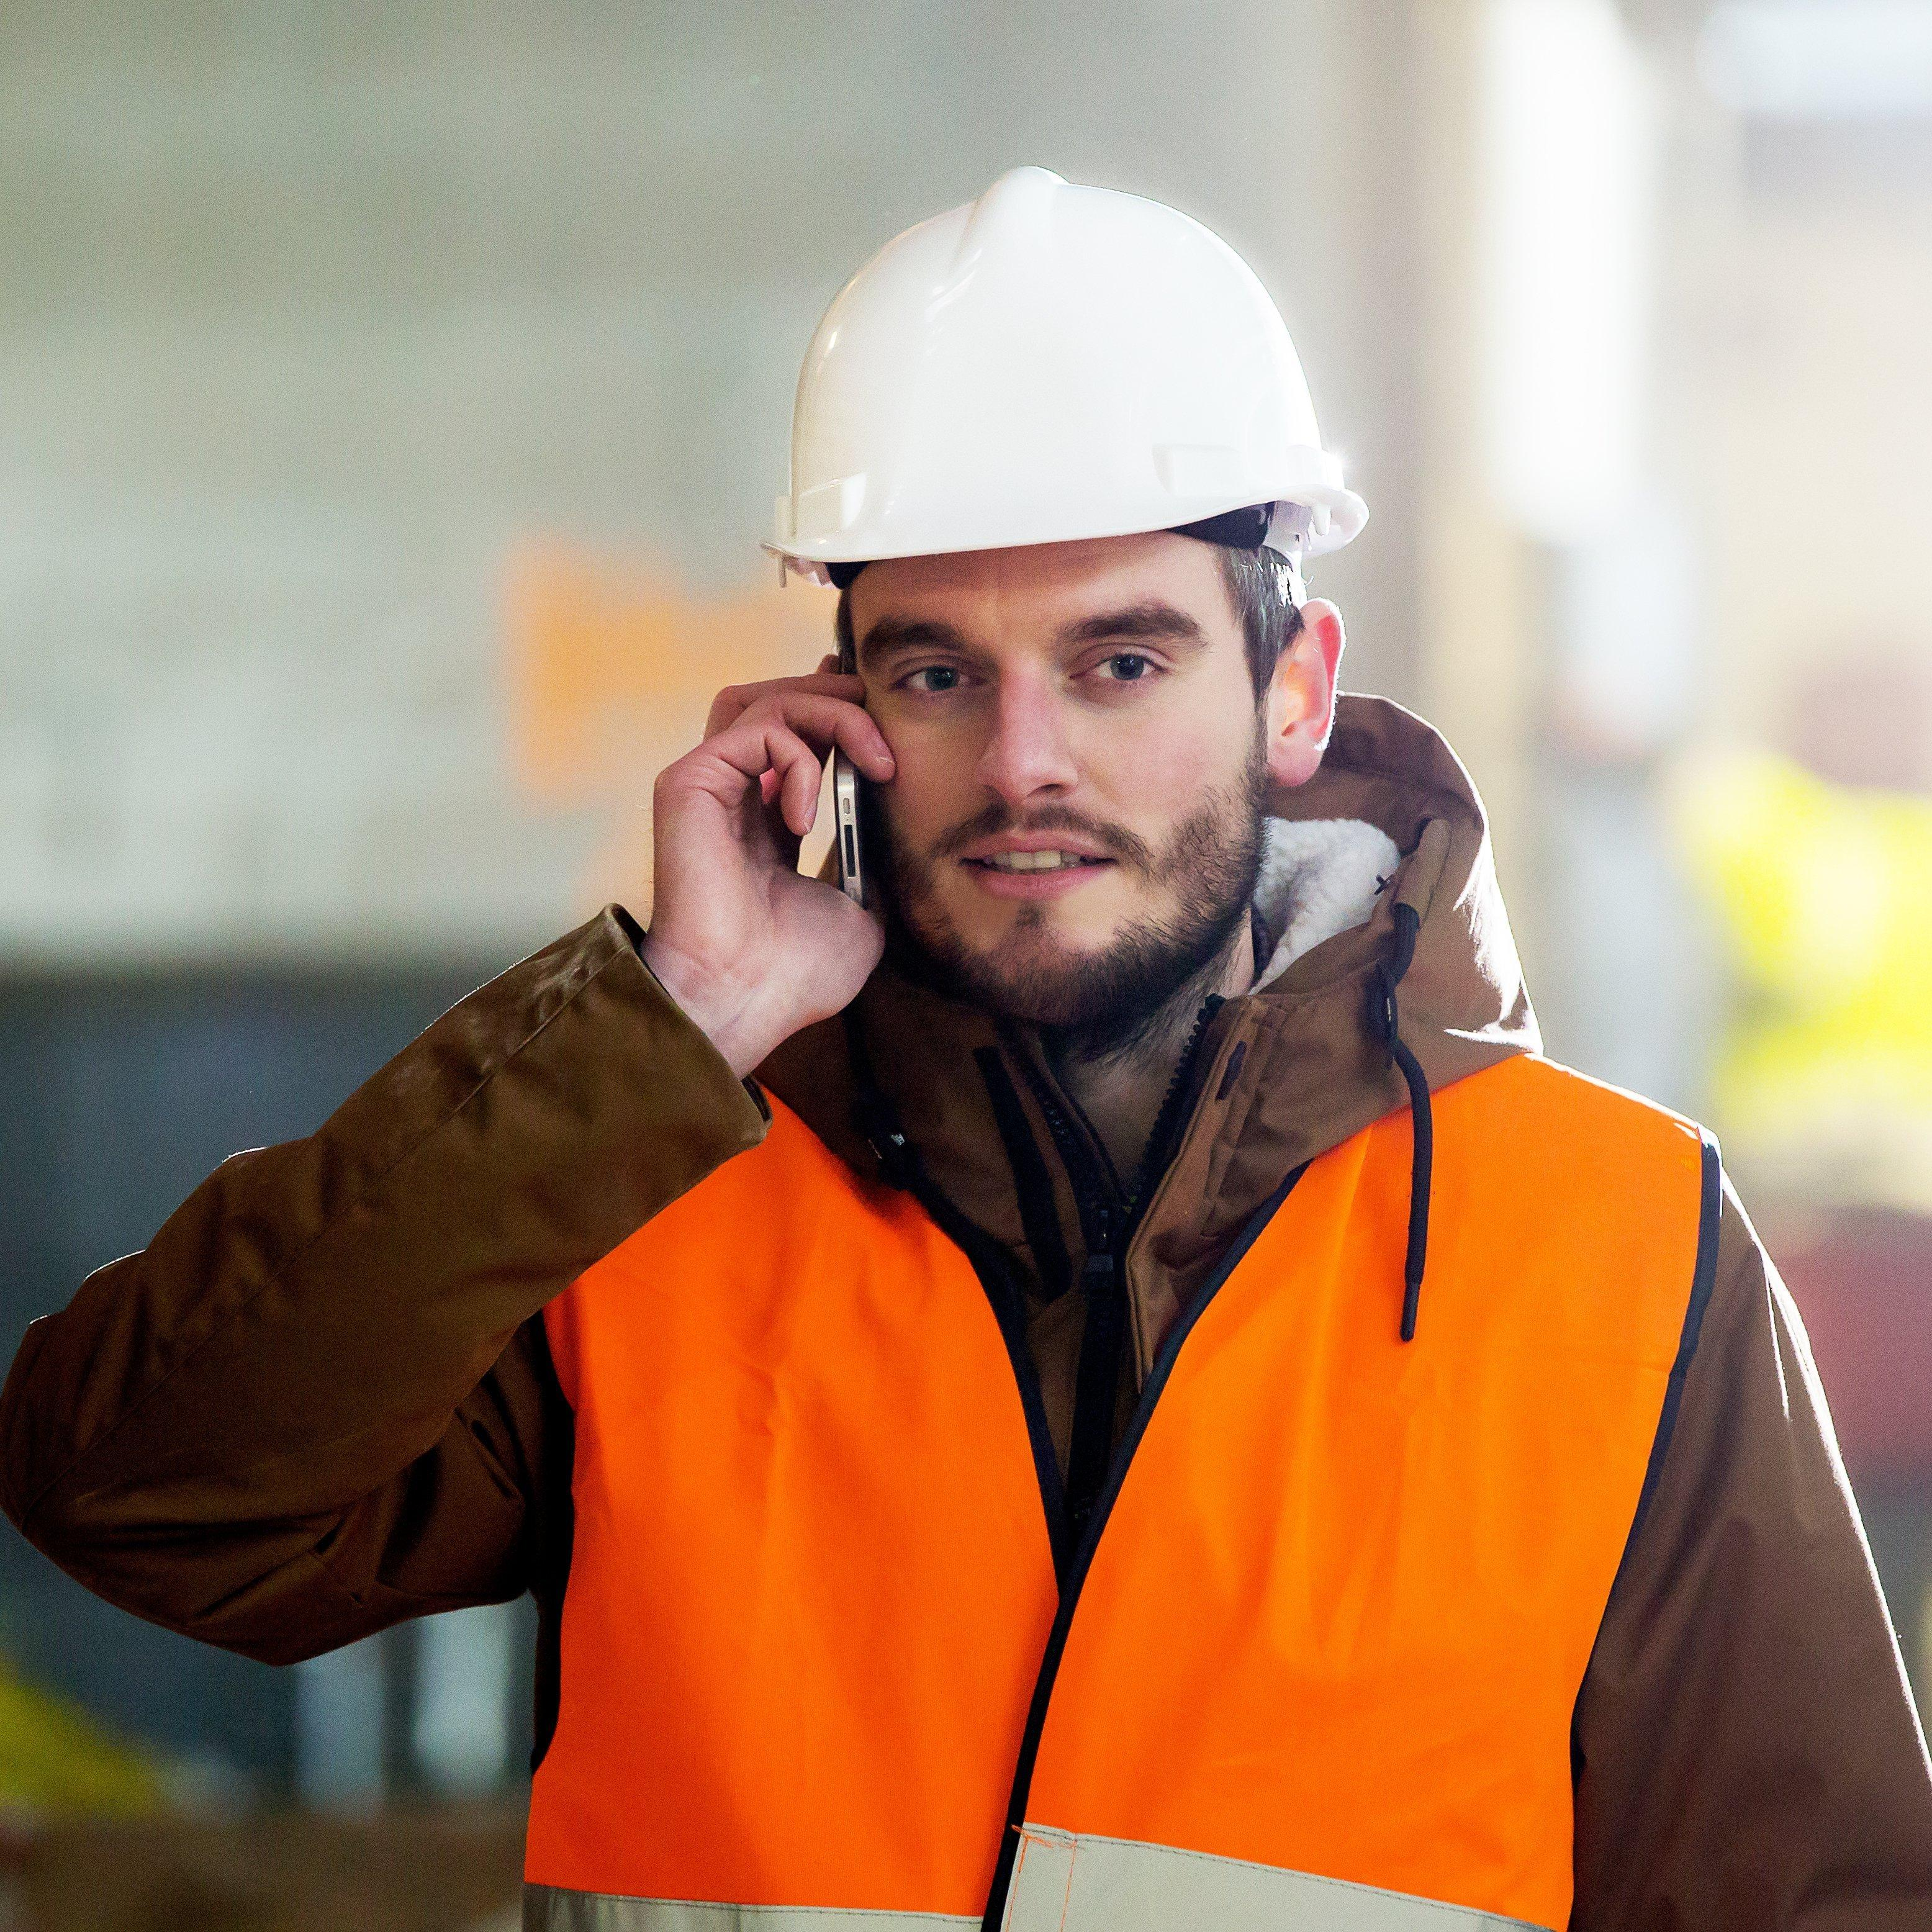helmet: (766, 157, 1375, 591)
